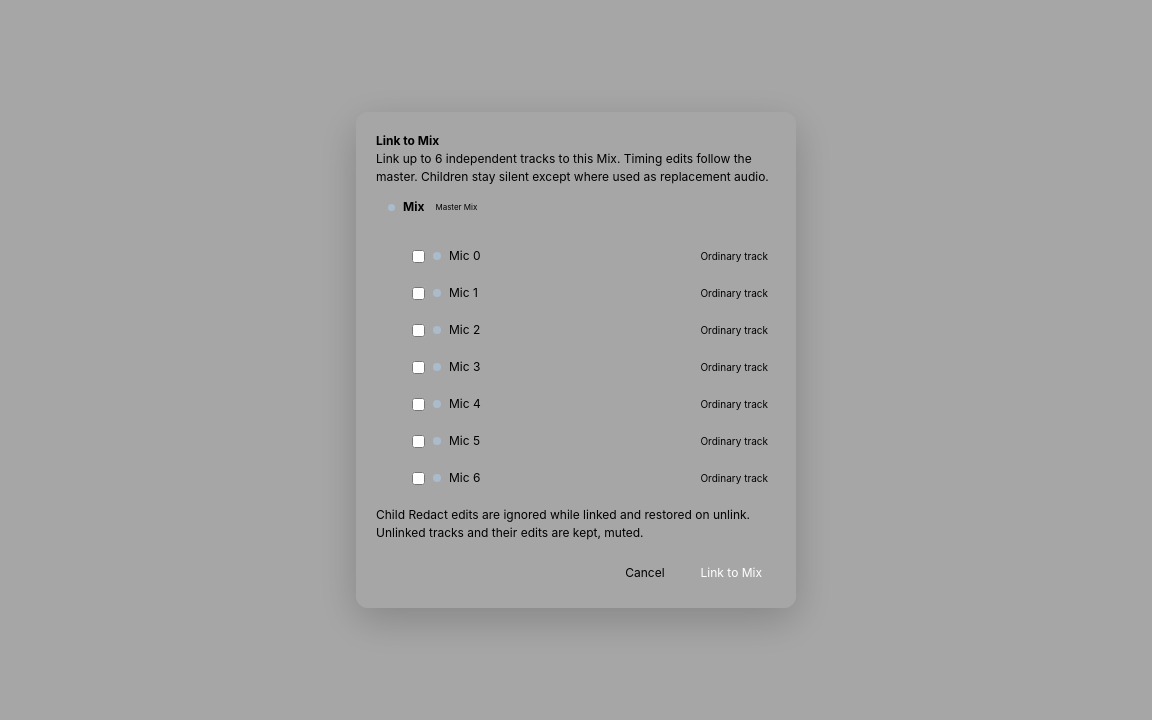
Scenario: limits linking to six and identifies the master
Click the checkbox labelled "Mic 0 Ordinary track": (418, 256) left=412, top=250, right=425, bottom=262
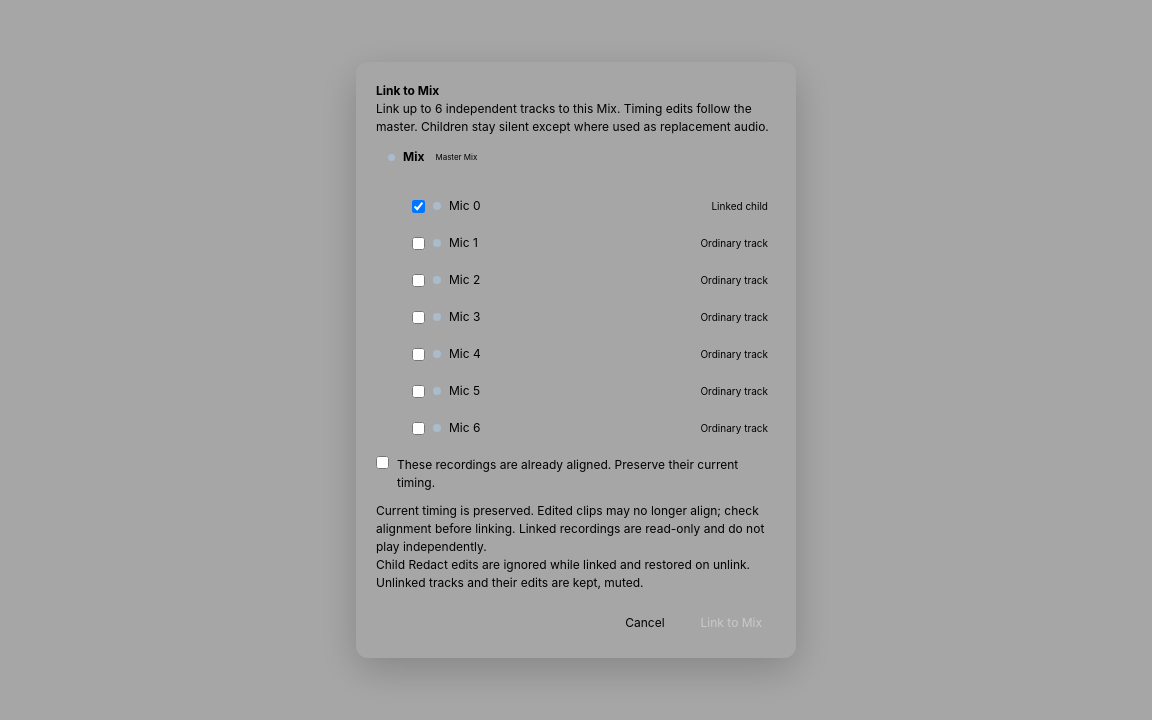
Click the checkbox labelled "Mic 1 Ordinary track": (418, 243) left=412, top=236, right=425, bottom=250
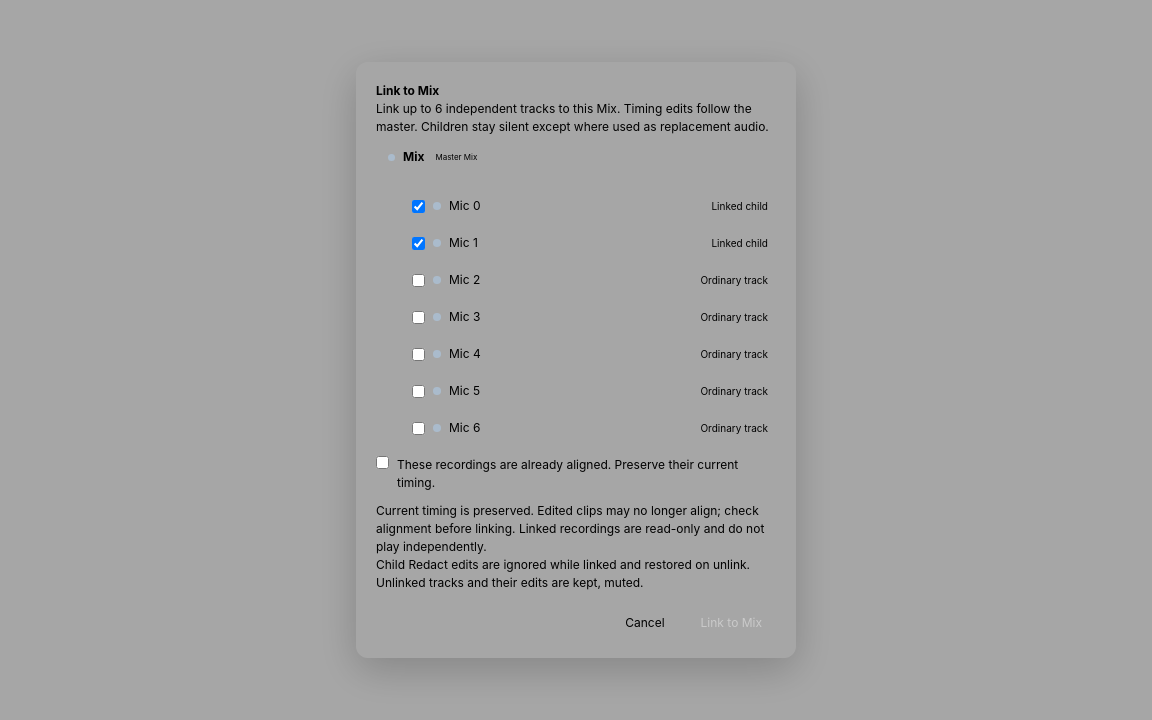
Click the checkbox labelled "Mic 2 Ordinary track": (418, 280) left=412, top=274, right=425, bottom=286
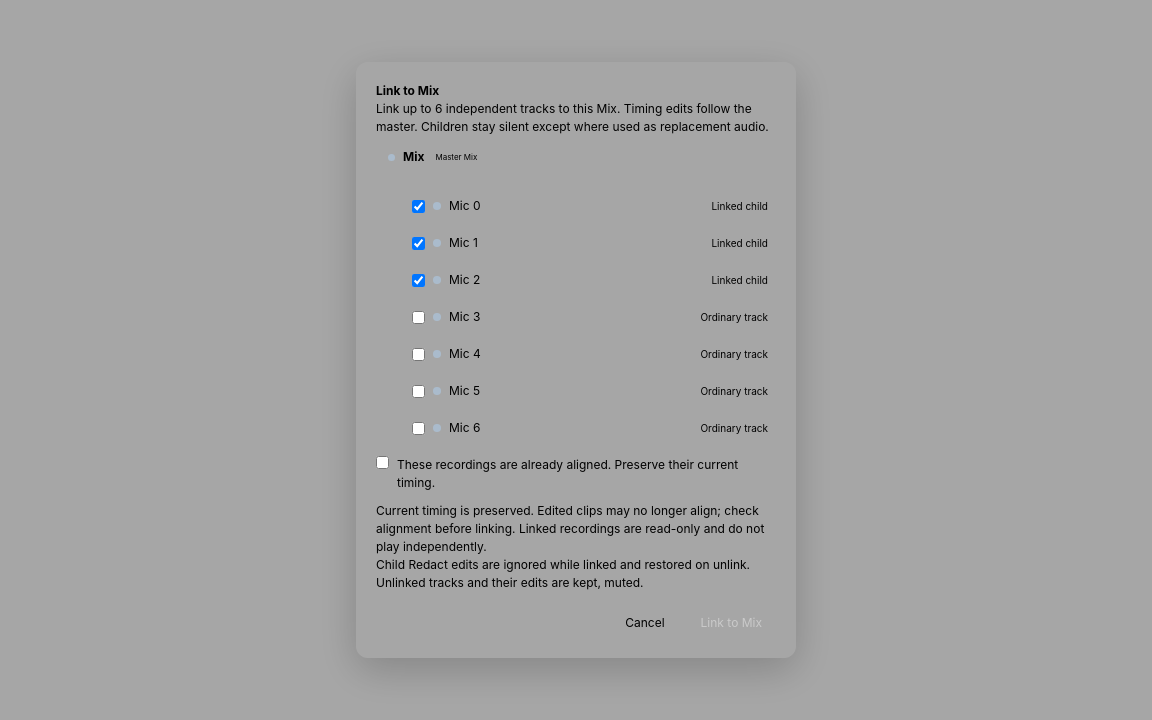
Click the checkbox labelled "Mic 3 Ordinary track": (418, 317) left=412, top=310, right=425, bottom=324
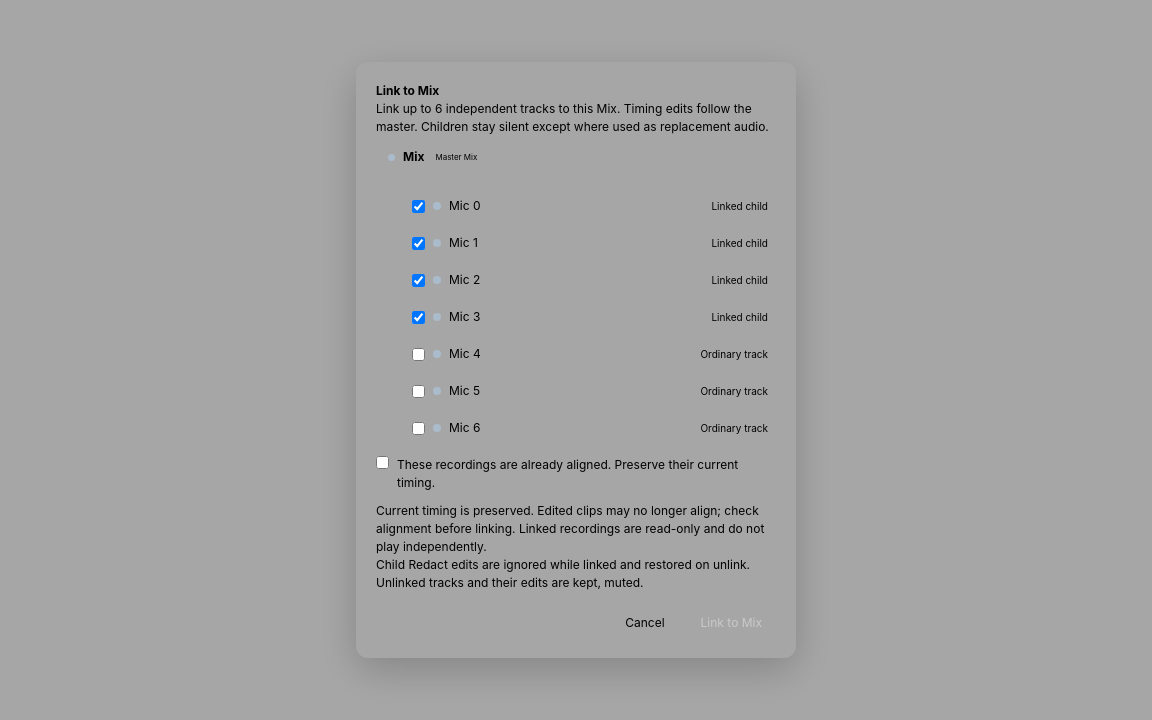
Click the checkbox labelled "Mic 4 Ordinary track": (418, 354) left=412, top=348, right=425, bottom=360
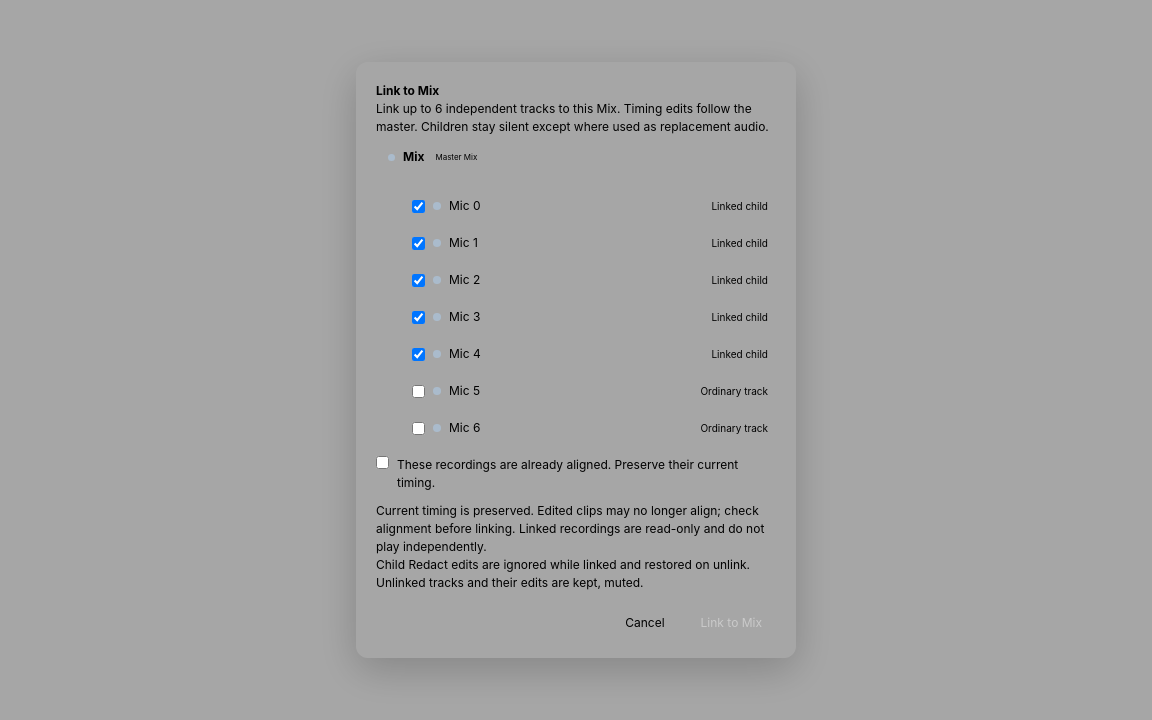
Click the checkbox labelled "Mic 5 Ordinary track": (418, 391) left=412, top=384, right=425, bottom=398
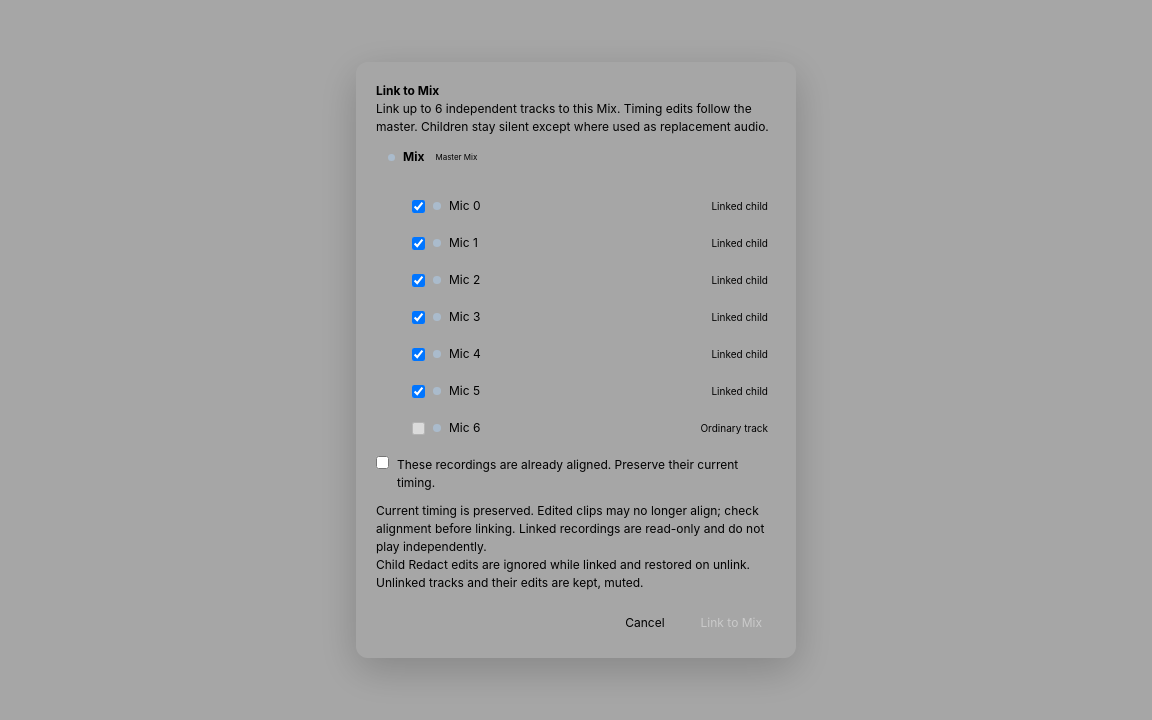
Expected: the text "Master Mix" is shown, left=432, top=150, right=480, bottom=164
Expected: the checkbox labelled "Mic 6" is disabled, left=412, top=422, right=425, bottom=434
